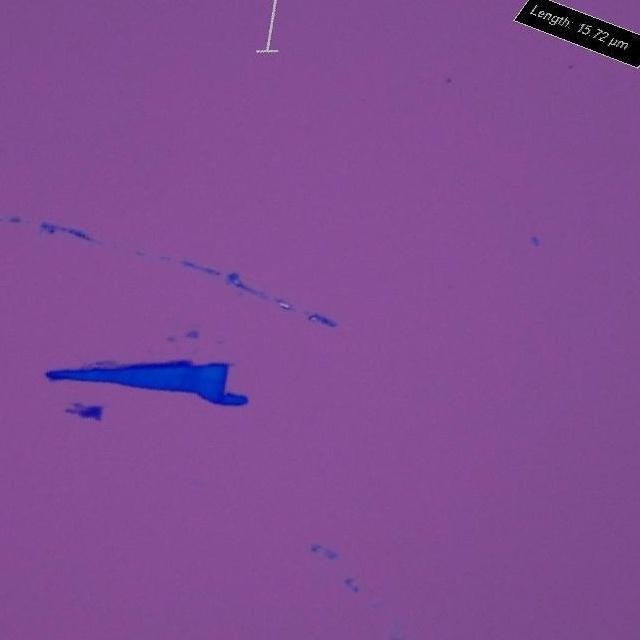monolayer-eWW4: (184, 328, 198, 338)
